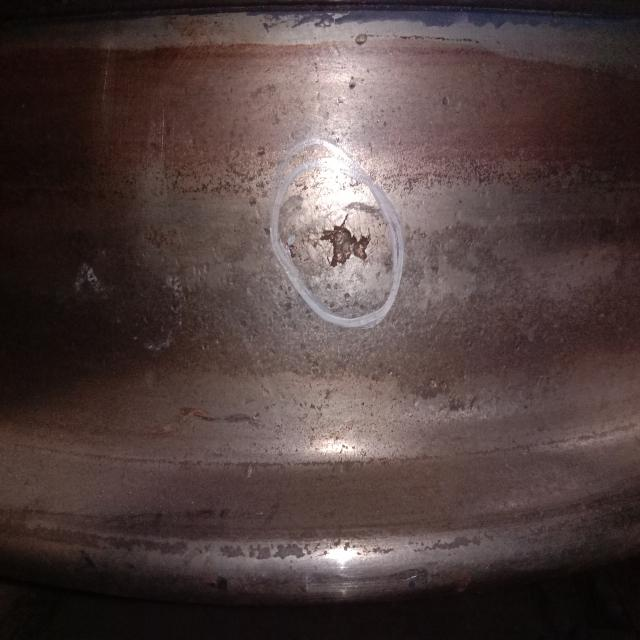Blue hole: (313, 205, 376, 277)
